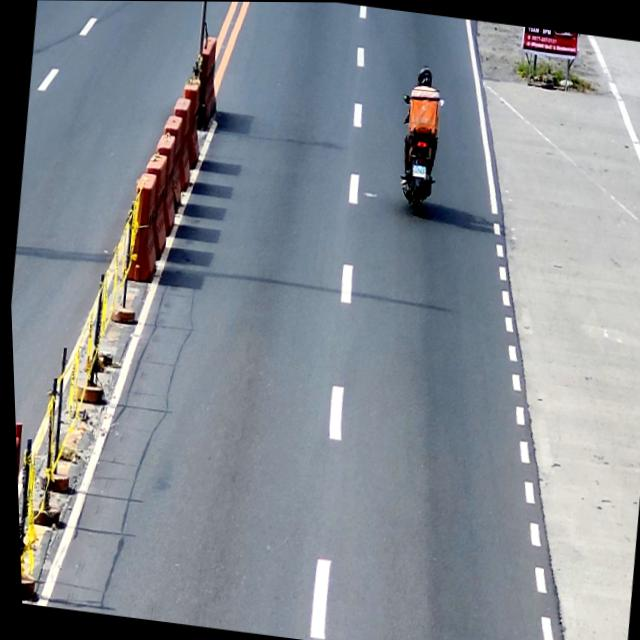License-Plate: (409, 159, 426, 177)
Motorcycle: (387, 87, 447, 217)
